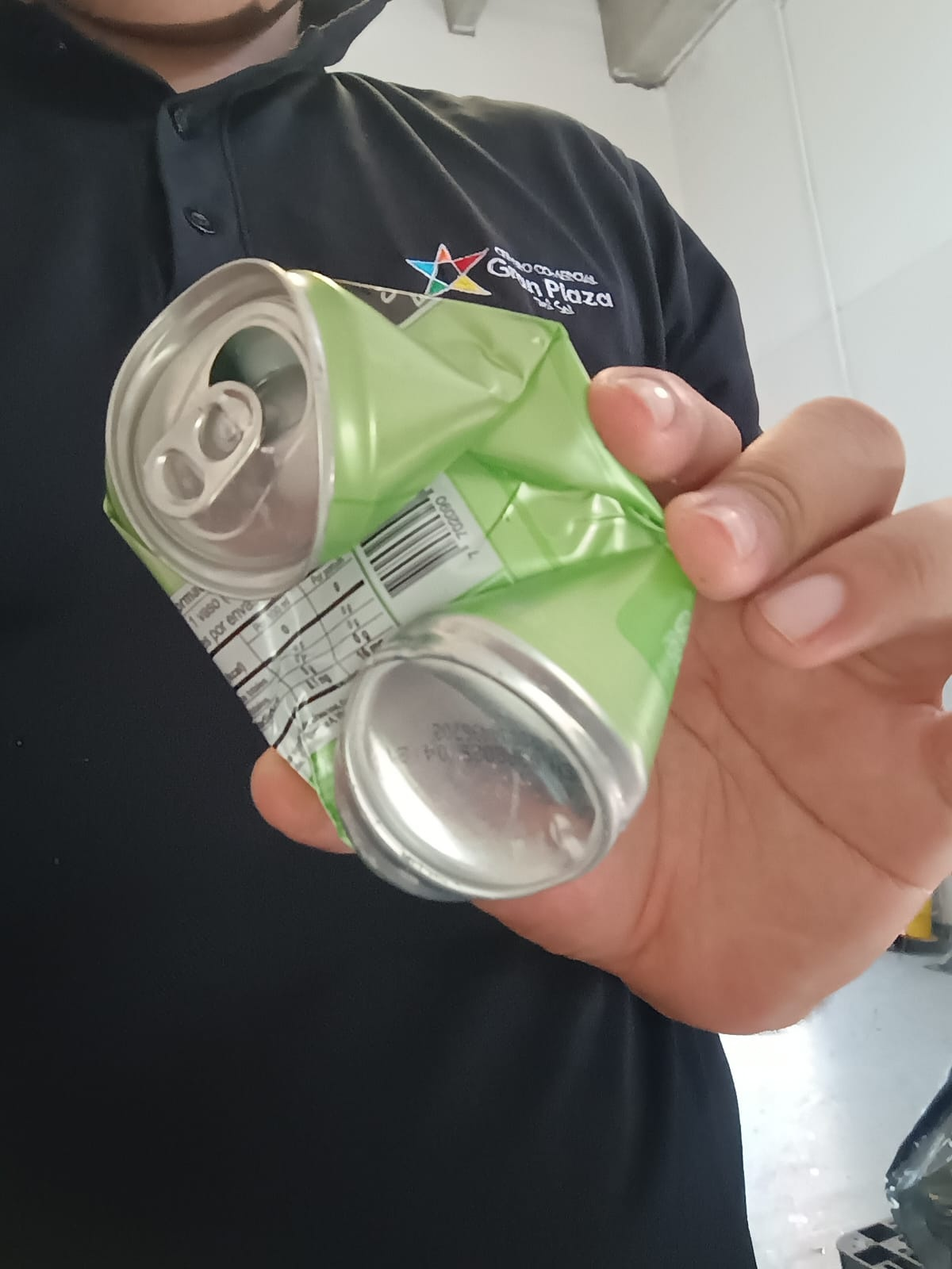Metal: (99, 262, 698, 910)
